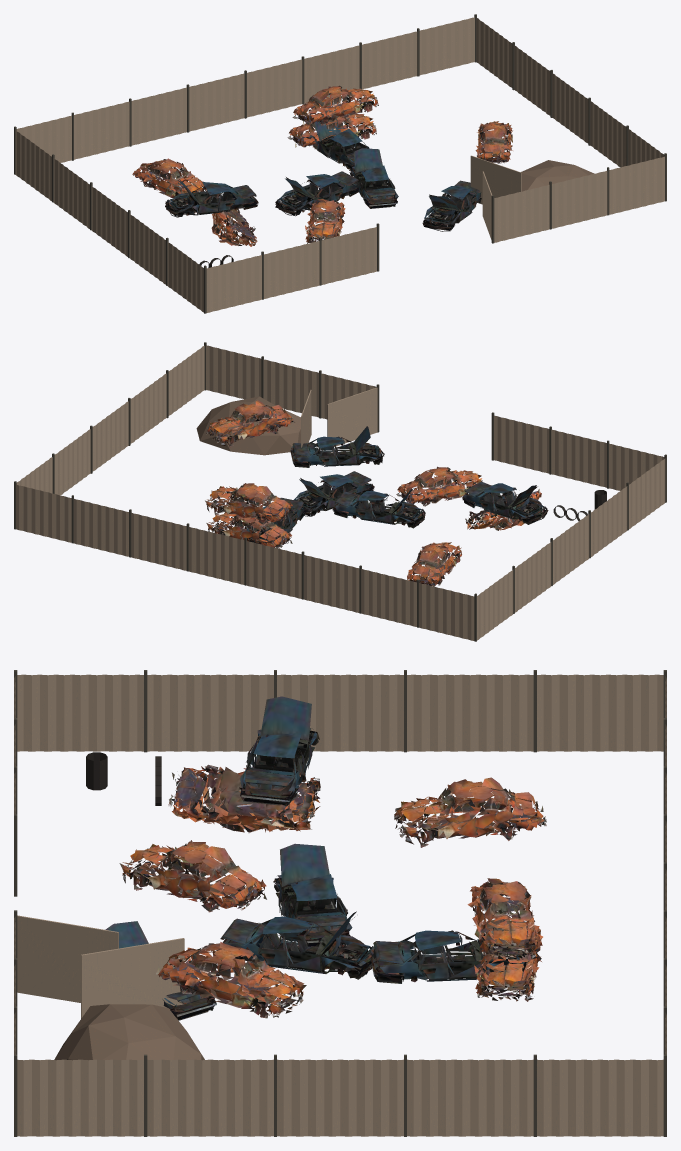
The model's file is scrapyard.glb.
3 renders of one model, top to bottom at view 1: azimuth 30°, elevation 25°; view 2: azimuth 150°, elevation 25°; view 3: azimuth 270°, elevation 25°, orthographic. The views are drawn at different scales.
Parts seen in each view (by area): view 1: scrap_yard, scrap_cars; view 2: scrap_yard, scrap_cars; view 3: scrap_yard, scrap_cars.
Boxes of the visible parts, <box> form: scrap_yard: <box>14,14,666,313</box>; scrap_cars: <box>132,85,512,246</box>; scrap_yard: <box>14,342,666,641</box>; scrap_cars: <box>205,400,548,586</box>; scrap_yard: <box>14,670,666,1136</box>; scrap_cars: <box>105,696,546,1020</box>.
Bounding box in the file's own units: 28.1 × 3.47 × 20.1.
Materials: 2 (2 with a texture image).
